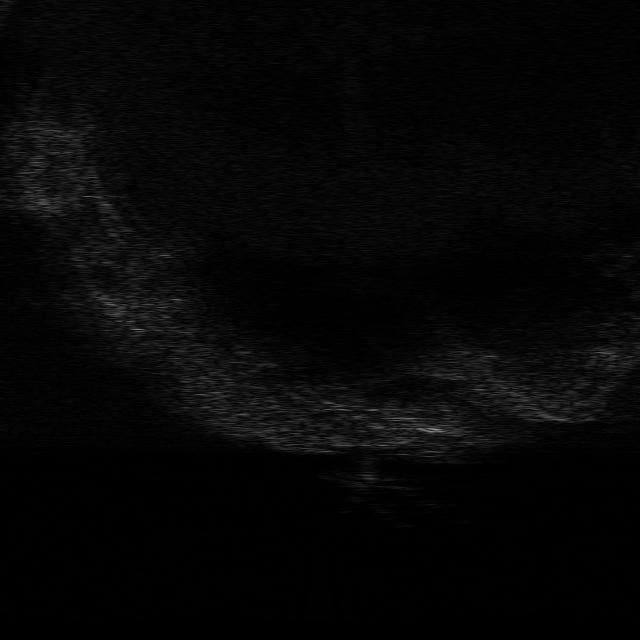plane: (315, 467, 416, 498)
